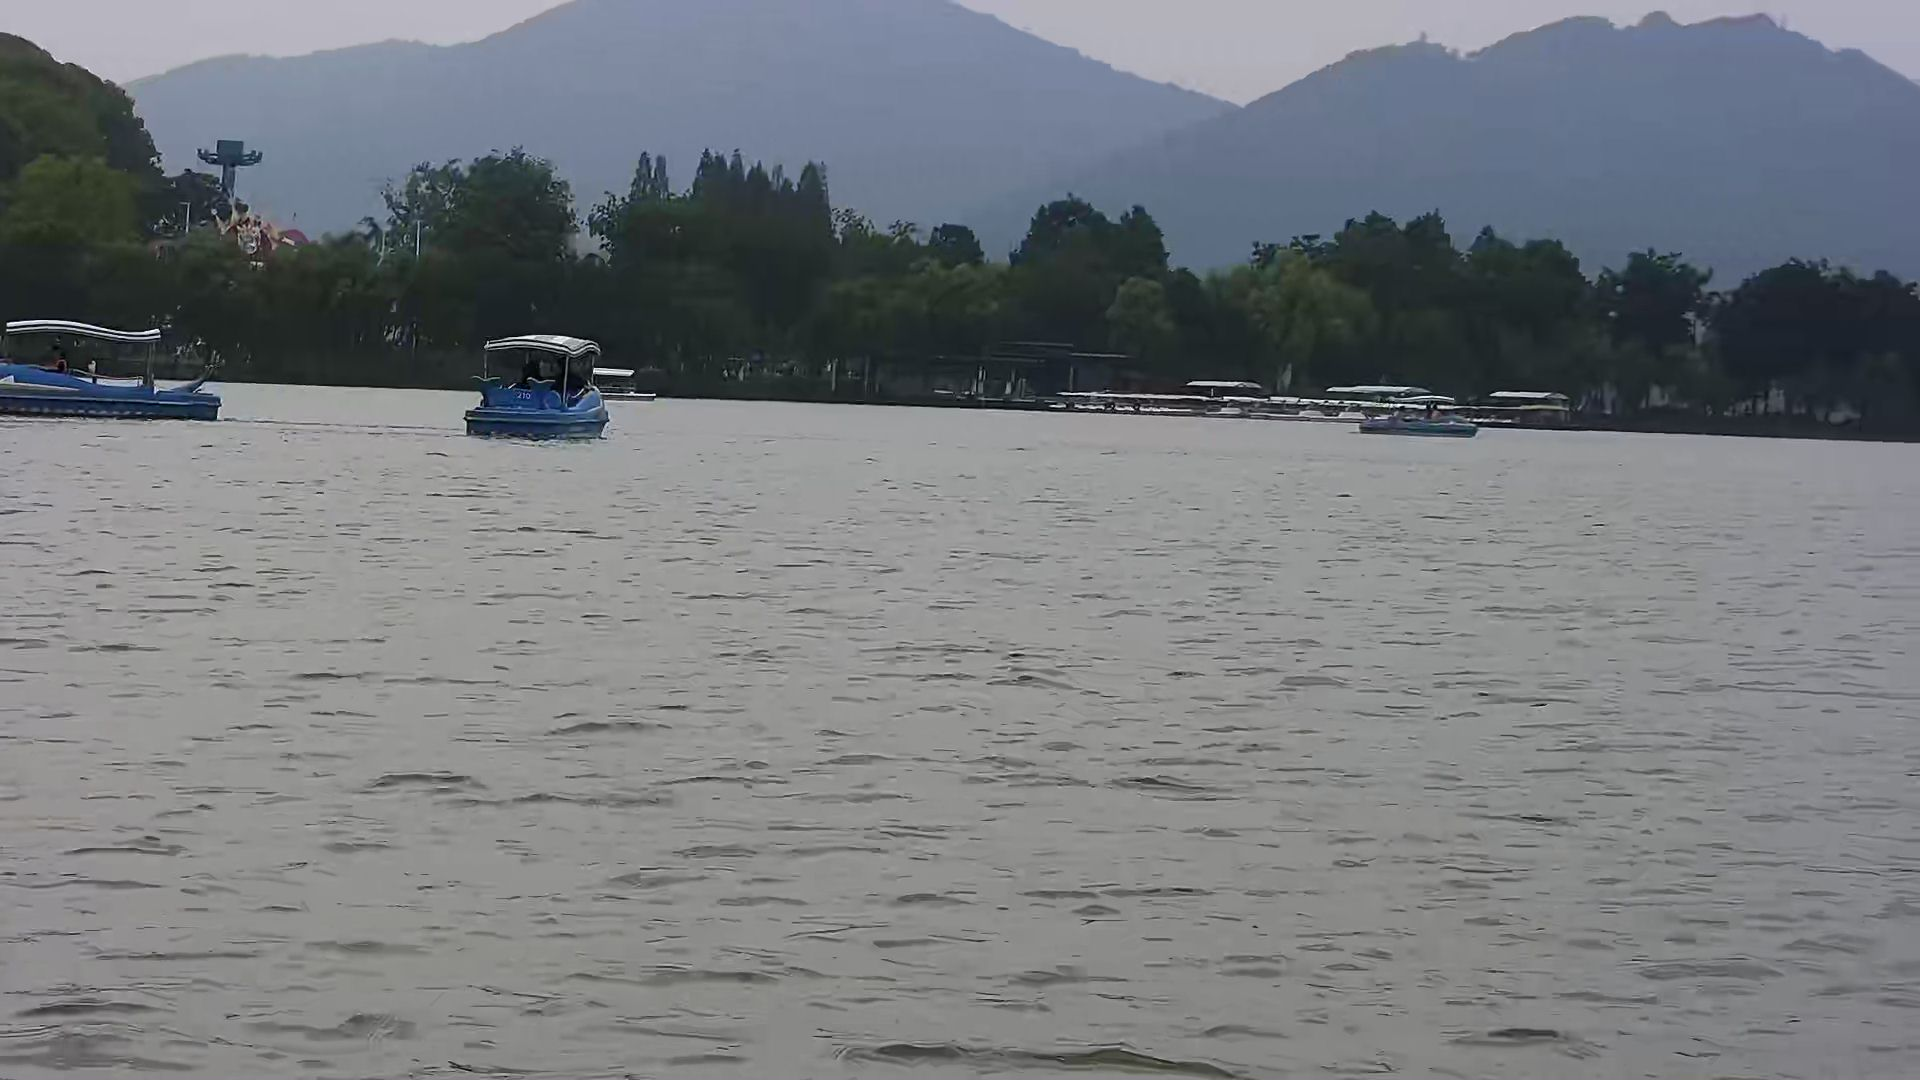boat: (4, 310, 237, 421), (468, 320, 615, 435), (1344, 389, 1478, 443)
